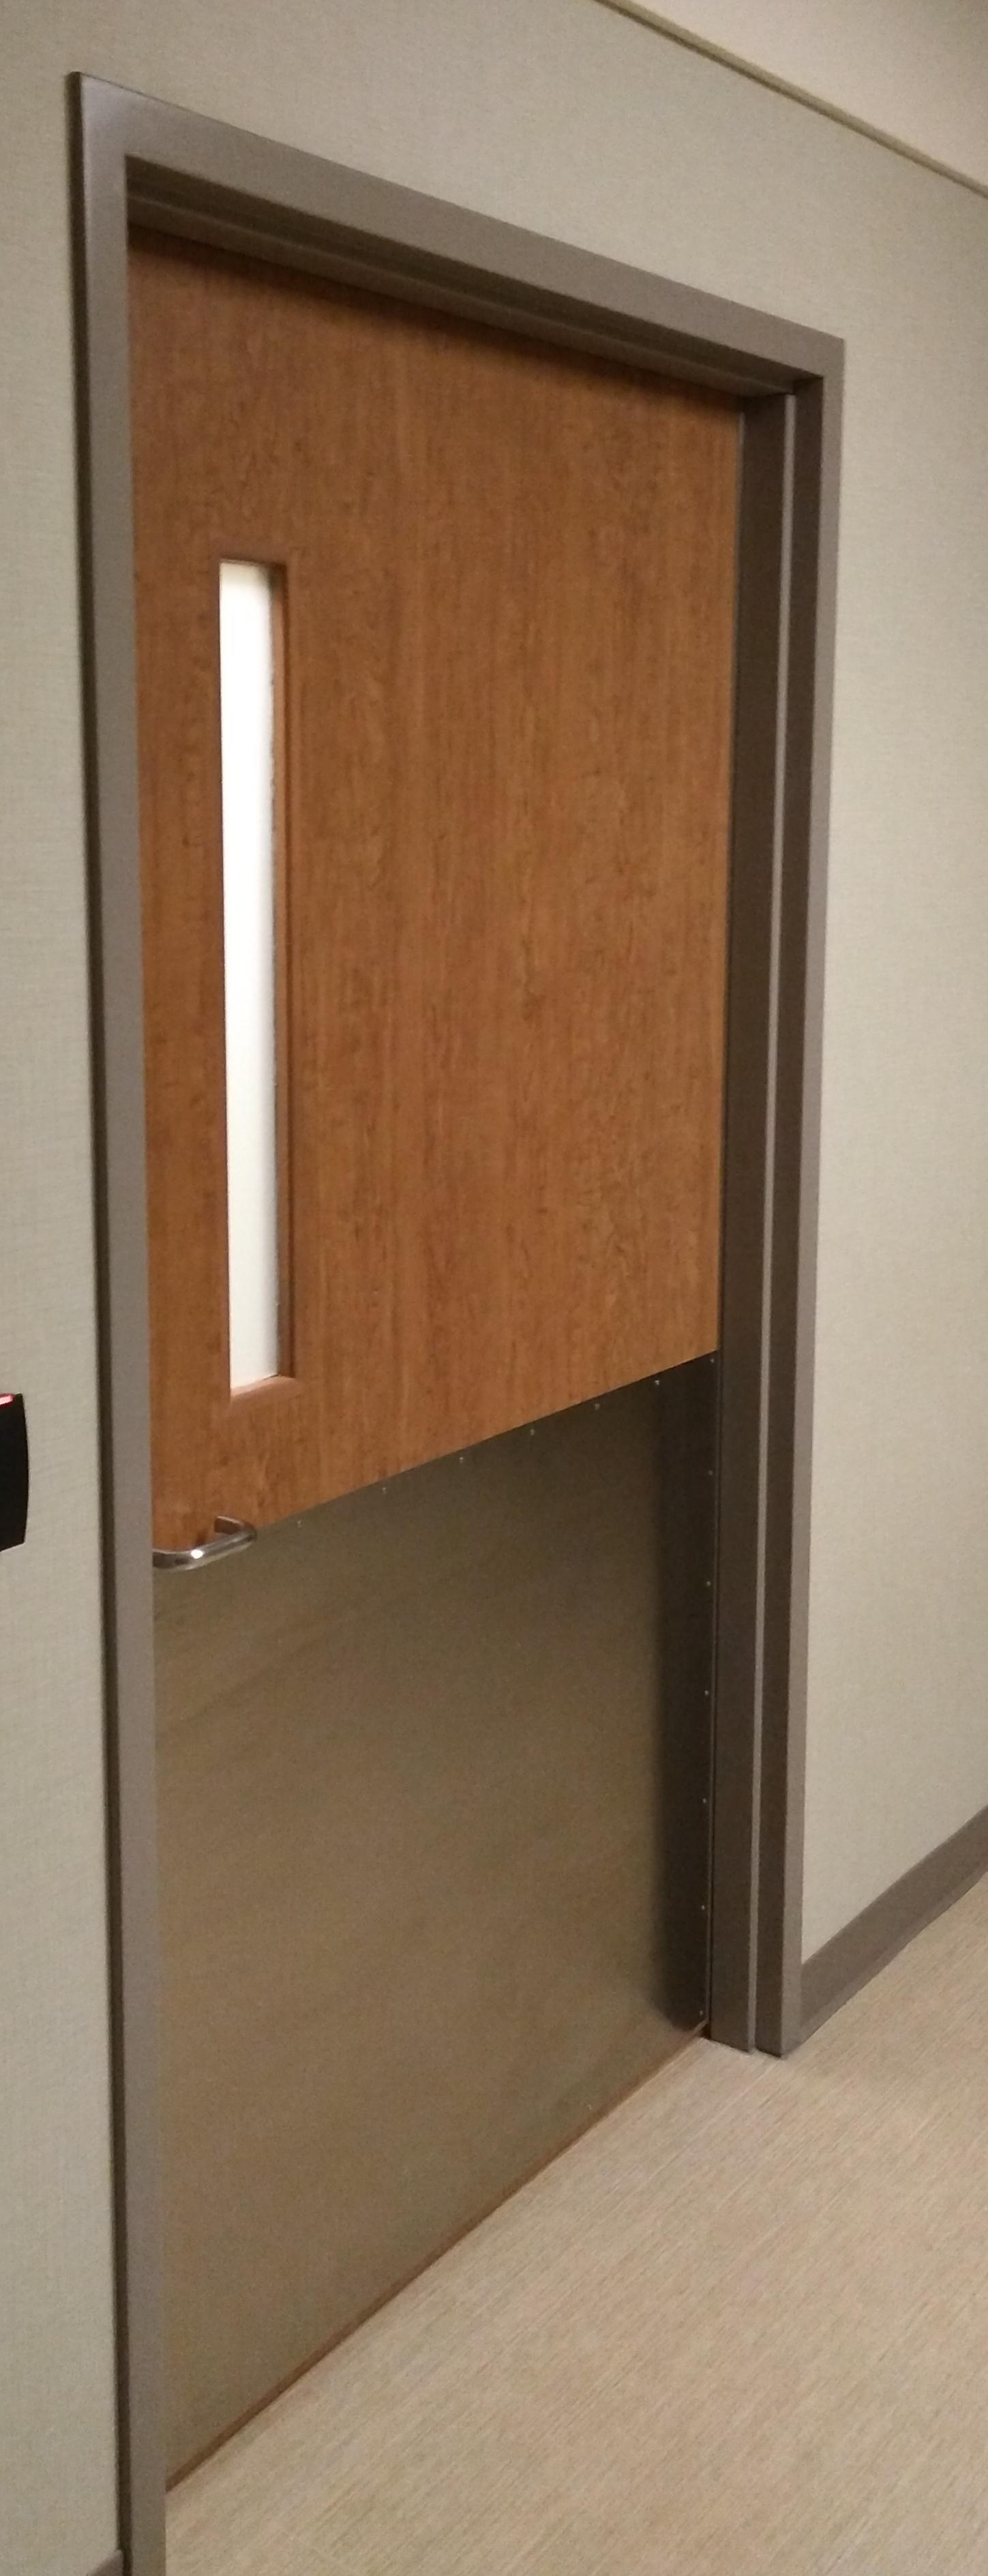door: (99, 128, 776, 2454)
